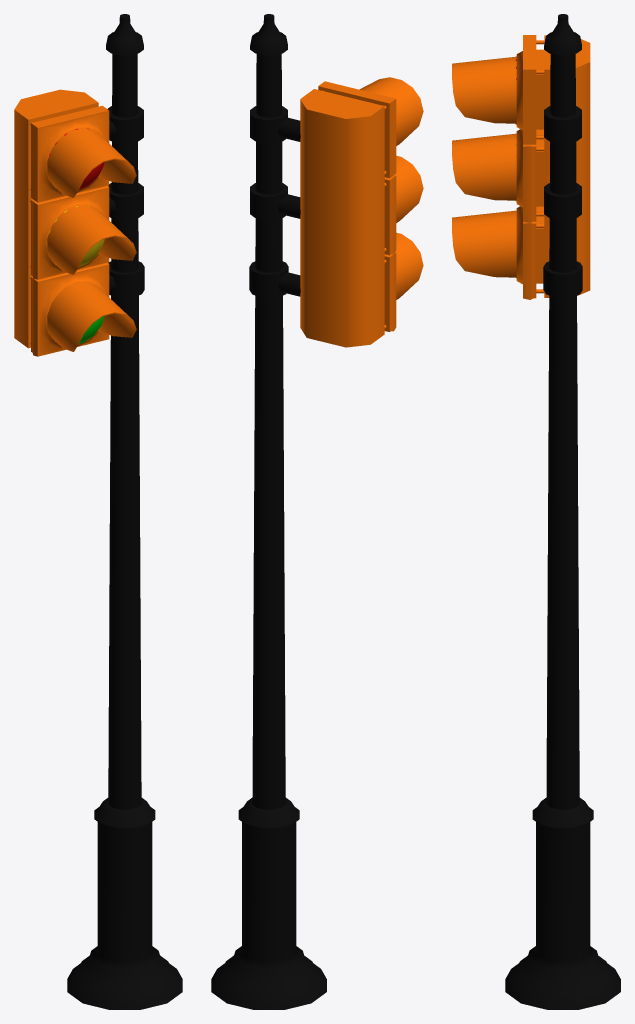
The model's file is Traffic_Light_1.fbx.
The picture shows the model from 3 angles, left to right: view 1: azimuth 30°, elevation 25°; view 2: azimuth 150°, elevation 25°; view 3: azimuth 270°, elevation 25°; orthographic projection.
Parts seen in each view (by area): view 1: Traffic_Light_A; view 2: Traffic_Light_A; view 3: Traffic_Light_A.
Boxes of the visible parts, x1,y1,x2,y2 form: Traffic_Light_A: [14, 14, 182, 1009]; Traffic_Light_A: [211, 14, 423, 1009]; Traffic_Light_A: [452, 14, 620, 1009].
Size of the model in its own units: 12.47 by 73 by 11.51.
